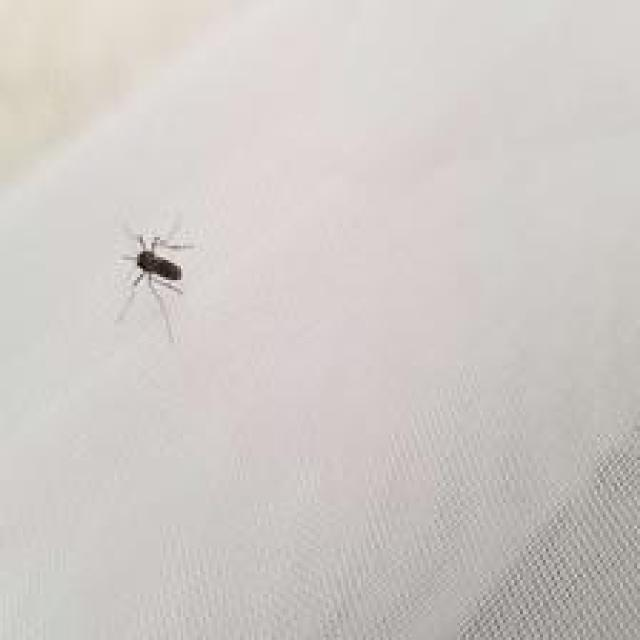Aedes albopictus: (114, 223, 194, 343)
